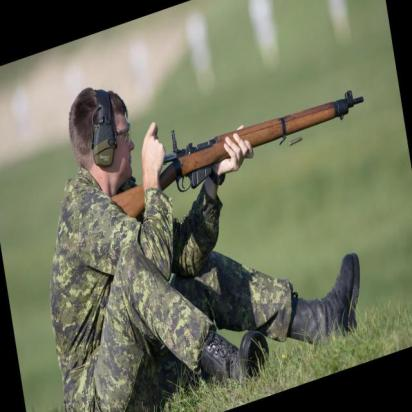Gun: (106, 80, 375, 231)
